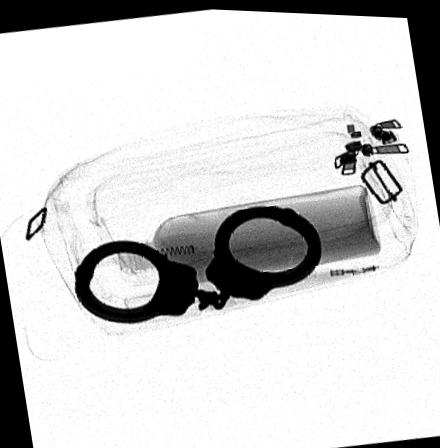HandCuffs: (73, 201, 321, 321)
